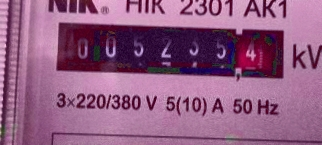0: (74, 34, 90, 61), (103, 33, 118, 58)
2: (158, 33, 173, 58)
3: (186, 32, 201, 57)
4: (243, 37, 258, 63)
5: (130, 32, 146, 59), (213, 33, 229, 60)
screen: (47, 13, 296, 87)
